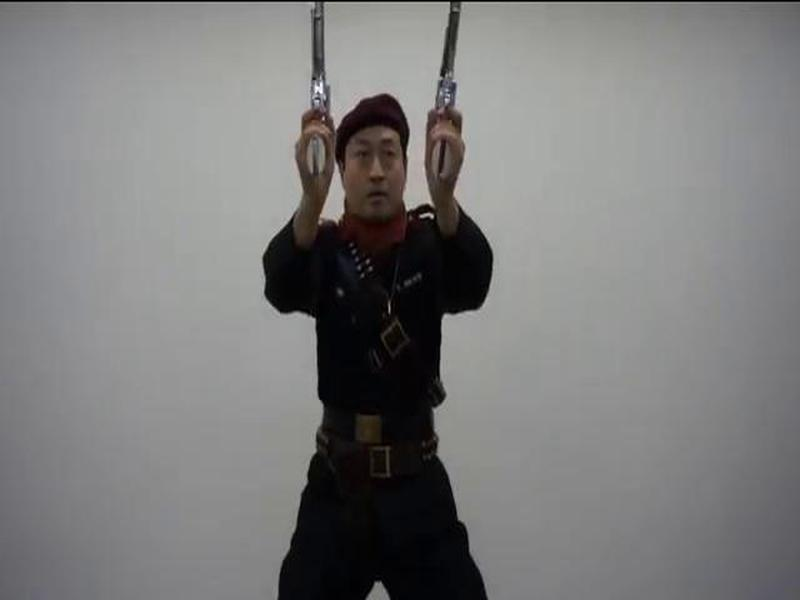Revolver: (401, 4, 497, 189), (260, 1, 355, 177)
